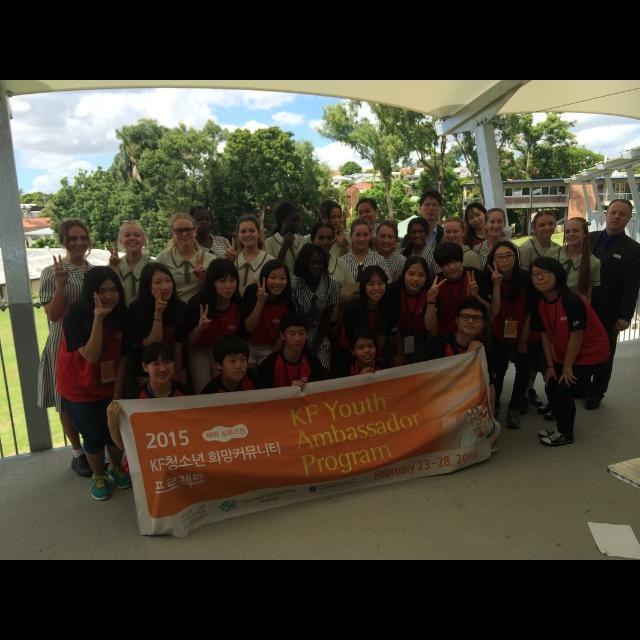head: (212, 336, 250, 382), (85, 267, 122, 313), (142, 341, 176, 385), (60, 219, 92, 259), (142, 264, 174, 302), (434, 241, 464, 281), (208, 260, 238, 300), (168, 212, 200, 248), (280, 312, 308, 352), (456, 302, 488, 336), (298, 244, 328, 280), (604, 198, 634, 232), (532, 258, 560, 294), (404, 256, 430, 292), (361, 266, 387, 302), (264, 259, 288, 297), (350, 332, 378, 364), (119, 222, 147, 254), (531, 208, 559, 240), (236, 215, 262, 247), (276, 204, 302, 236), (310, 223, 336, 255), (492, 243, 518, 273), (418, 190, 442, 222), (350, 218, 372, 252), (564, 218, 590, 246), (483, 208, 507, 238), (406, 216, 428, 248), (356, 198, 379, 228), (320, 202, 342, 232), (376, 222, 398, 252), (190, 206, 212, 234), (444, 218, 466, 246), (467, 202, 487, 230)
person: (31, 218, 129, 482), (52, 264, 136, 504), (103, 340, 209, 520), (150, 212, 228, 450), (116, 259, 198, 485), (94, 216, 170, 459), (198, 333, 308, 494), (526, 255, 612, 450), (216, 212, 288, 436), (252, 308, 340, 480), (371, 254, 453, 438), (420, 297, 504, 468), (180, 256, 250, 460), (535, 216, 603, 424), (172, 203, 242, 404), (424, 239, 498, 429), (328, 263, 404, 437), (292, 220, 358, 416), (476, 238, 540, 430), (238, 257, 300, 449), (330, 216, 396, 396), (332, 328, 414, 472), (508, 210, 566, 410), (468, 204, 524, 410), (282, 242, 342, 434), (302, 200, 360, 384), (399, 188, 458, 366), (343, 195, 402, 368), (431, 213, 484, 405), (258, 199, 312, 385), (396, 214, 446, 402), (360, 218, 412, 398), (460, 200, 510, 374)
